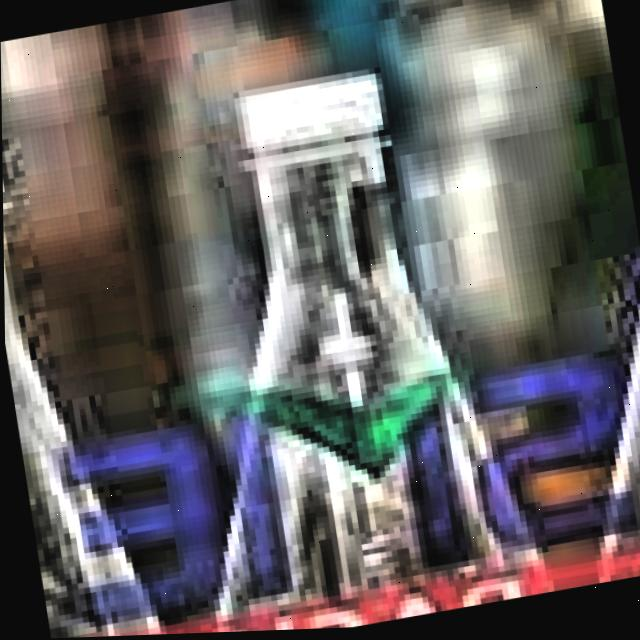plastic: (119, 46, 548, 637), (1, 103, 185, 640), (496, 18, 640, 593)
